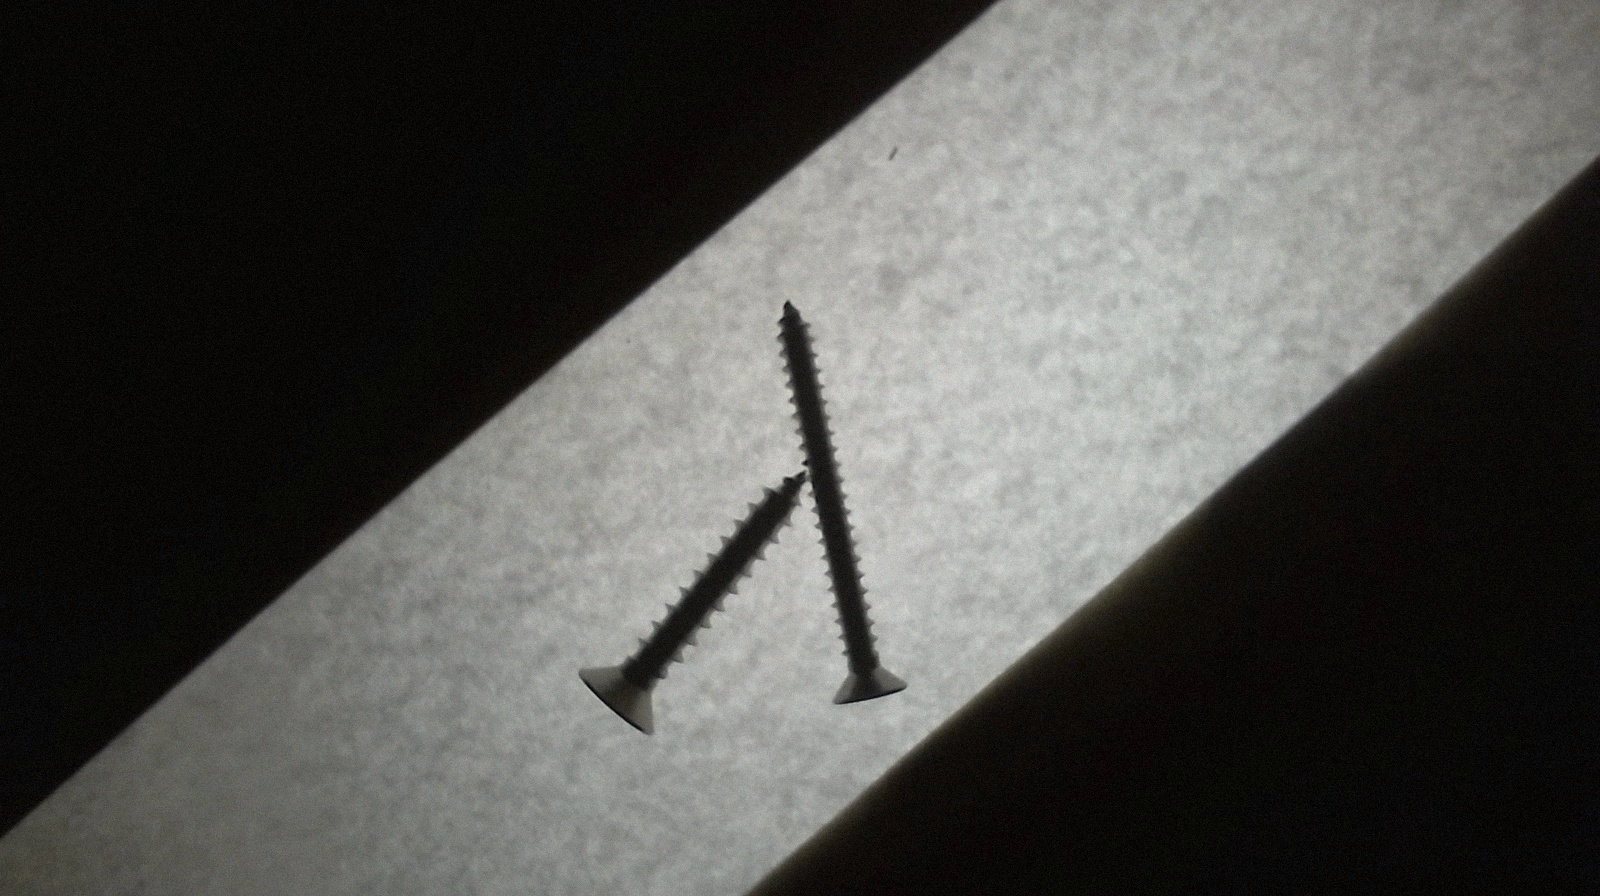S001: (573, 458, 816, 743)
S002: (763, 291, 909, 708)
